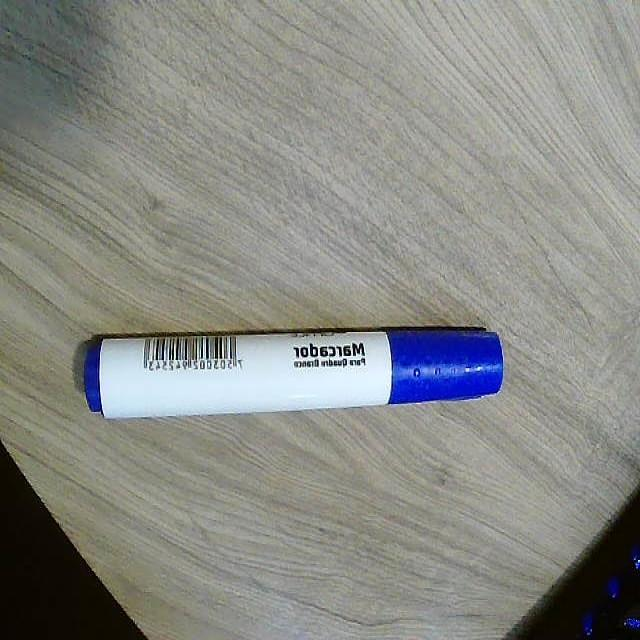caneta: (80, 305, 526, 438)
